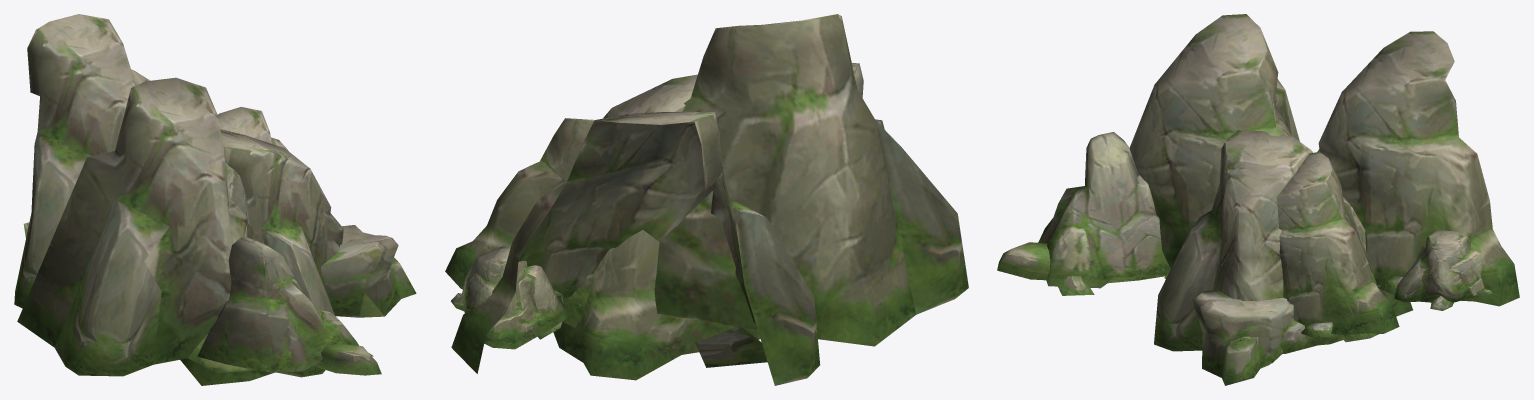
The model's file is shitou_10.FBX.
3 views of the same model, side by side, from view 1: azimuth 30°, elevation 25°; view 2: azimuth 150°, elevation 25°; view 3: azimuth 270°, elevation 25° (orthographic). The views are drawn at different scales.
Parts seen in each view (by area): view 1: shitou_10; view 2: shitou_10; view 3: shitou_10.
Boxes of the visible parts, box(x1,y1,x2,y2) form: shitou_10: box(14, 14, 416, 385); shitou_10: box(445, 14, 968, 385); shitou_10: box(997, 14, 1519, 385).
Size of the model in its own units: 622 by 476 by 823.
